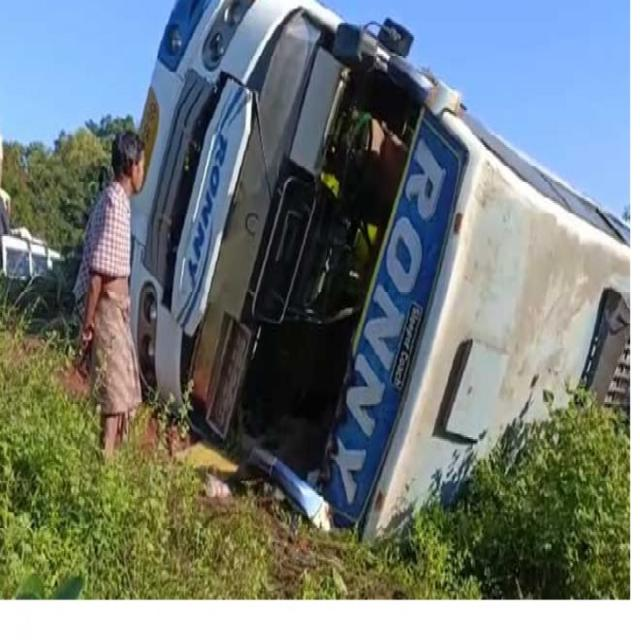accident: (130, 0, 629, 536)
